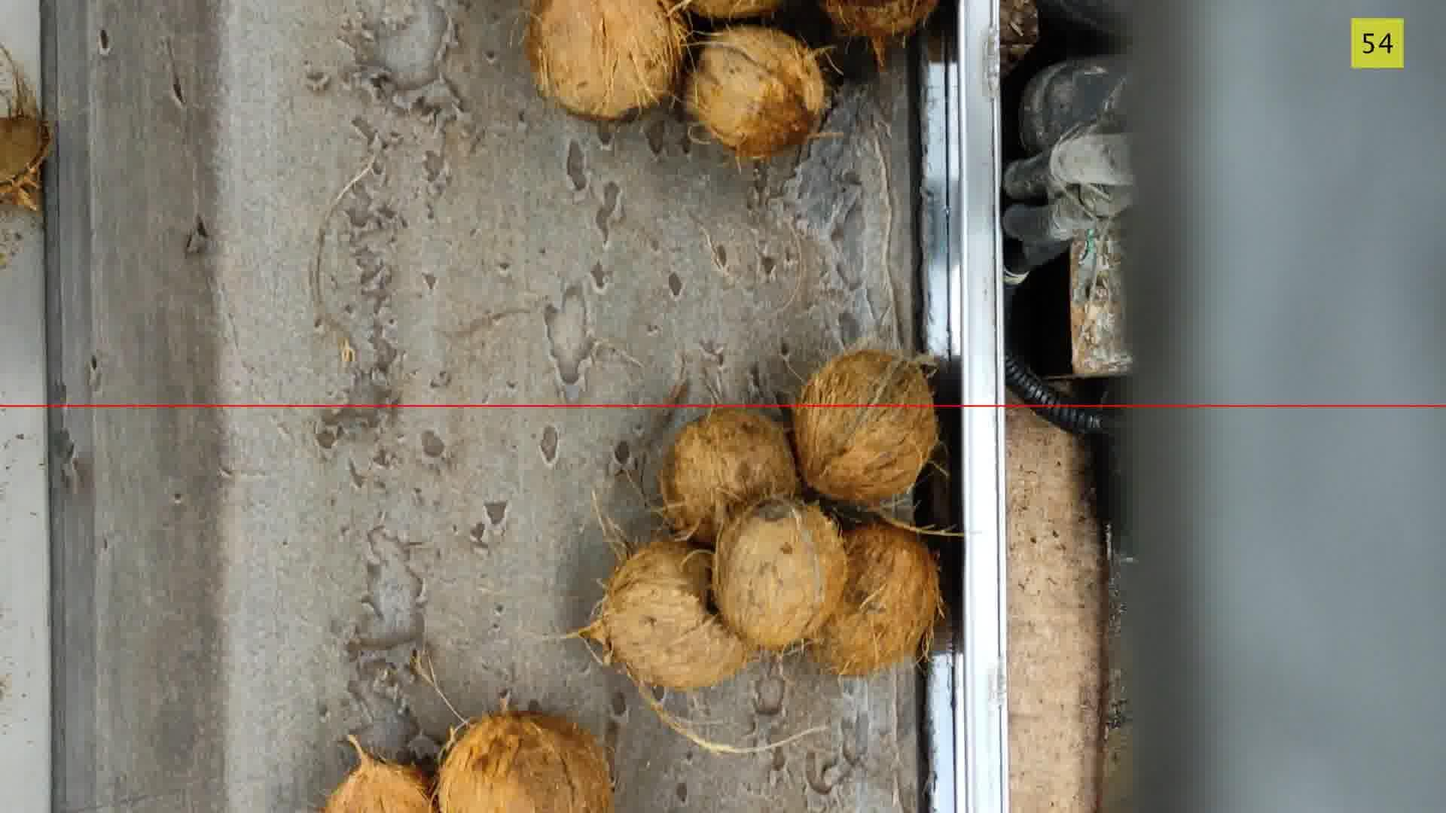Coconut: (581, 537, 751, 689), (793, 349, 938, 504), (713, 498, 847, 650), (810, 521, 941, 675), (524, 0, 688, 120), (658, 409, 800, 544), (685, 26, 825, 160), (436, 711, 612, 812), (0, 45, 52, 211), (323, 737, 432, 812), (820, 0, 938, 69), (686, 0, 784, 20)
